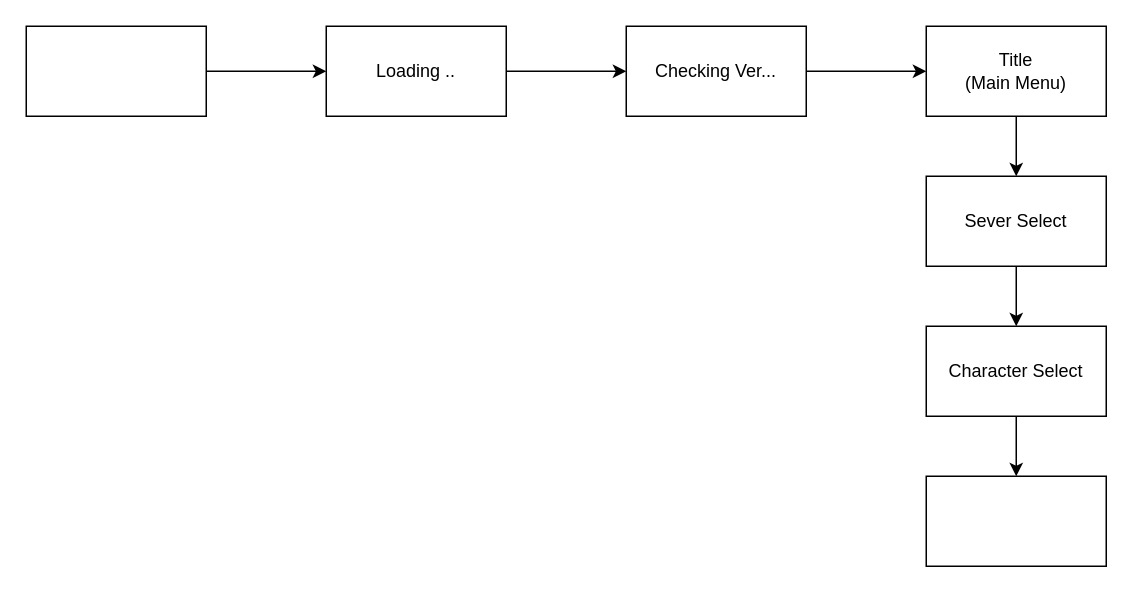
Image size: 1133x593. Some labels were removed from this diagram. The shapes that lost their labels are listed below. From the top down, each one's box as (x1, y1, x2, y2) in pixels, then its label:
(25, 25, 206, 116): Game Icon
(925, 475, 1106, 566): In Game (Main HUD)
